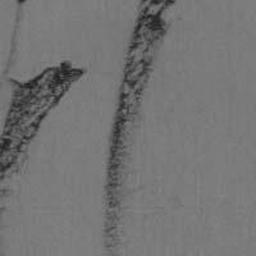Inclusion: (0, 0, 87, 256), (104, 0, 179, 256)
